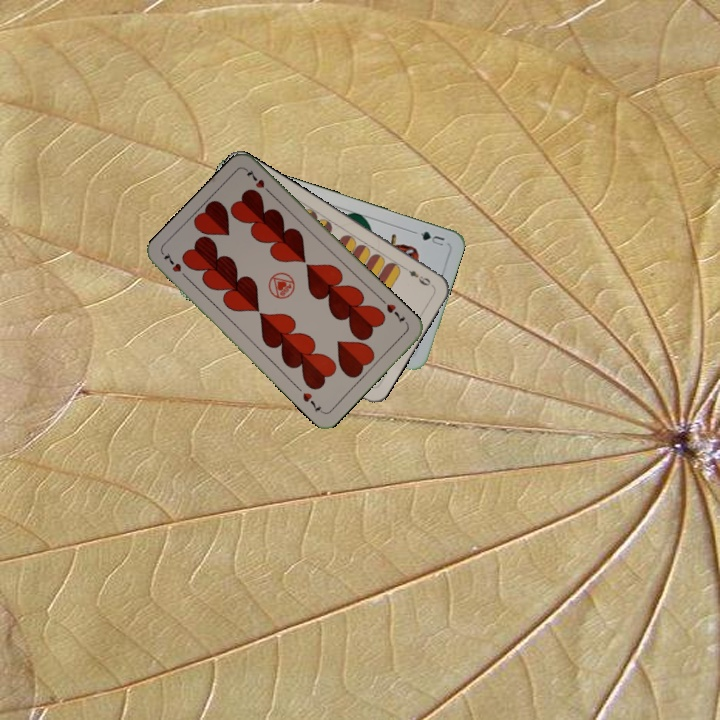E9: (399, 262, 435, 289)
GU: (410, 227, 447, 249)
H7: (160, 249, 191, 282), (382, 300, 408, 326)
